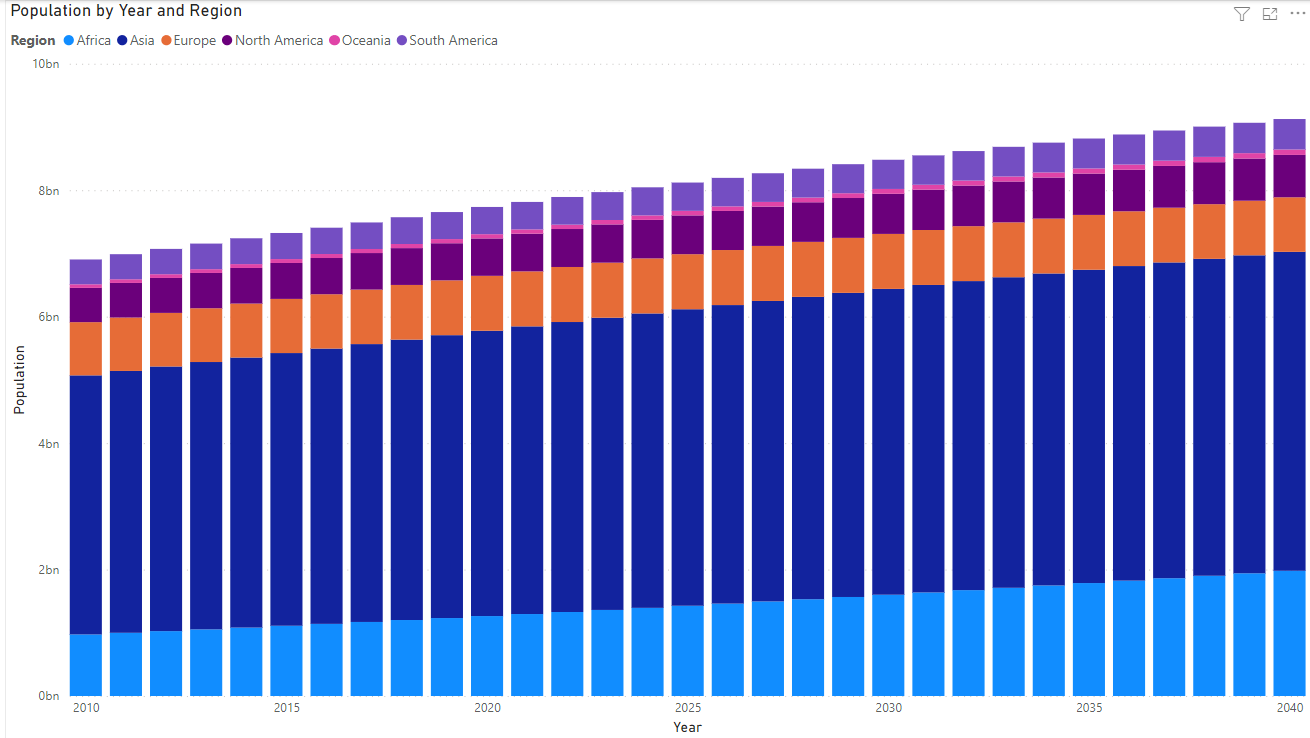

This screenshot's page, from the dashboard's own definition file:
{"tool":"powerbi","page":{"name":"Population by Year and Region","canvas":[1280,720],"ordinal":0},"visuals":[{"type":"columnChart","fields":{"Category":["FactPopulation.Year"],"Y":["Sum(FactPopulation.Population)"],"Series":["DimRegion.Region"]},"box":[9.7,0,1270.3,719.8],"z":0}]}

Visuals, with their boxes in screenshot pixels (x1, y1, x2, y2), scaled from the page's 1280x720 canvas onto the 1310x738 screenshot:
columnChart - FactPopulation.Year x Sum(FactPopulation.Population): bbox(10, 0, 1309, 737)
